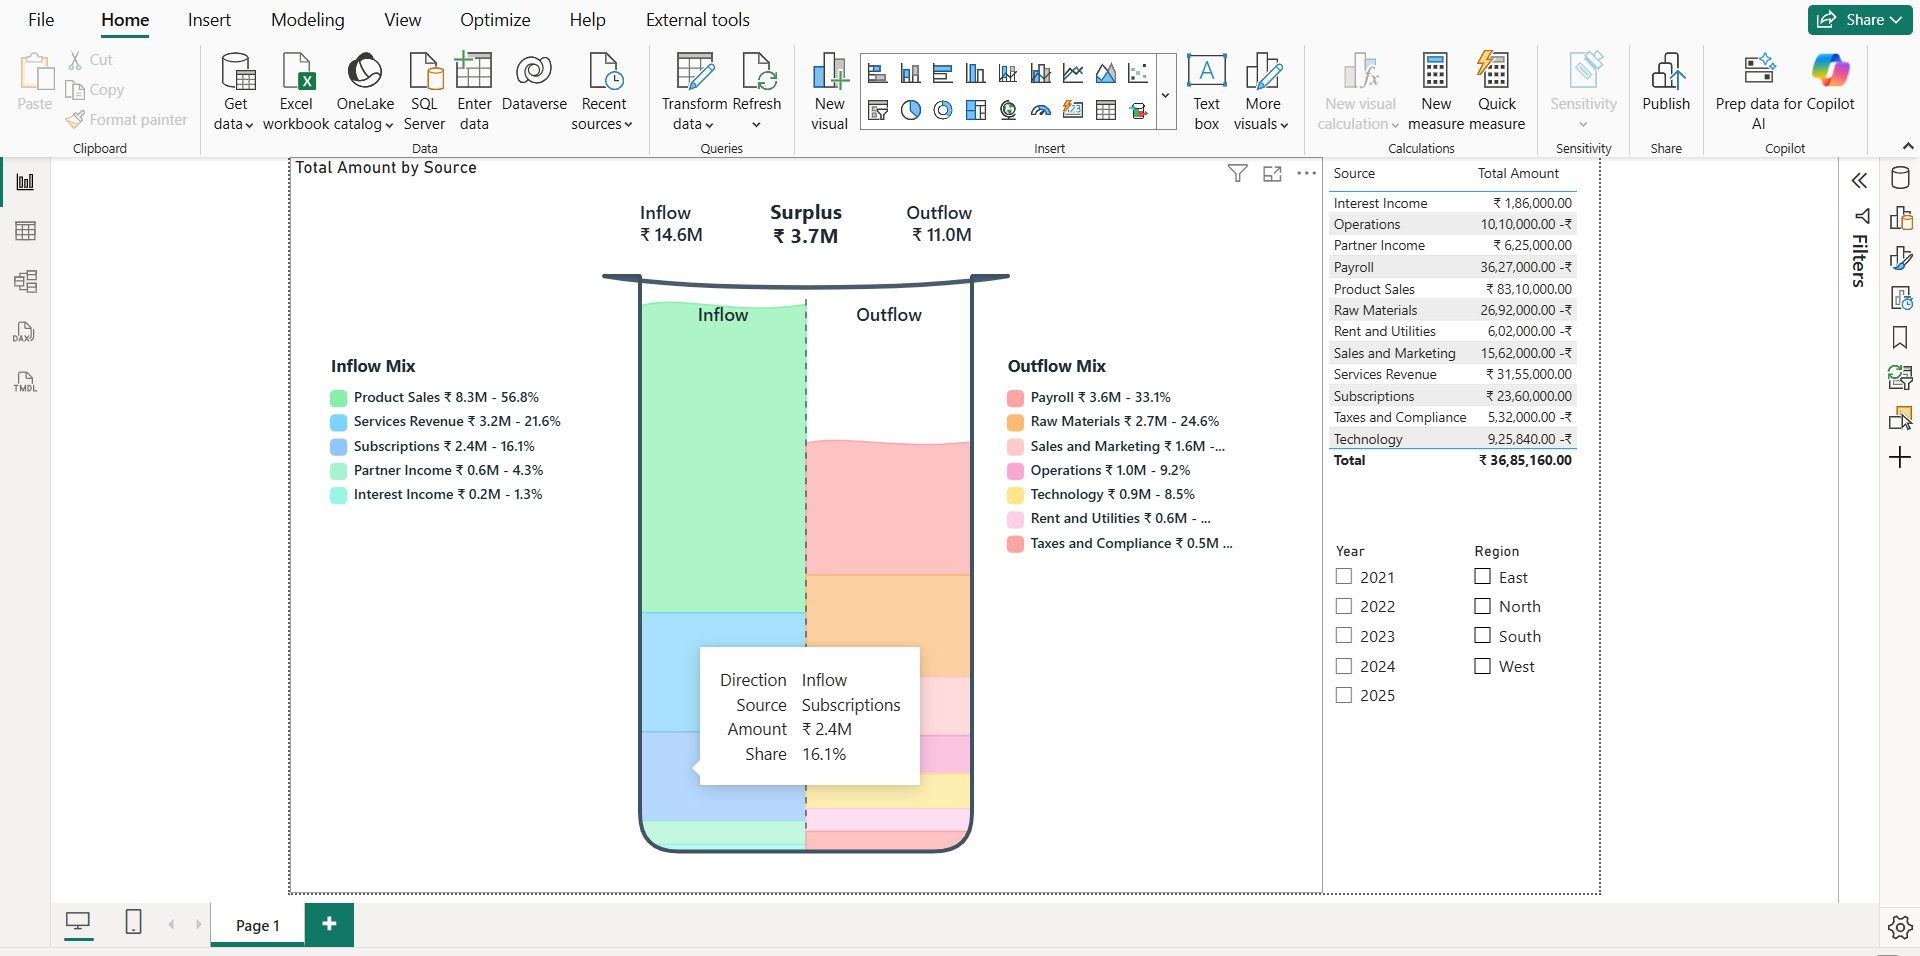

This screenshot's page, from the dashboard's own definition file:
{"tool":"powerbi","page":{"name":"Page 1","canvas":[1280,720],"ordinal":0},"visuals":[{"type":"tableEx","fields":{"Values":["flowtank_sample_financials.Source","flowtank_sample_financials.Total Amount"]},"box":[1009.9,0,269.8,372.2],"z":1},{"type":"slicer","fields":{"Values":["flowtank_sample_financials.Year"]},"box":[1009.9,372.2,135.6,347.7],"z":3},{"type":"slicer","fields":{"Values":["flowtank_sample_financials.Region"]},"box":[1145.6,372.2,134.2,173.1],"z":5},{"type":"flowTank19740818","fields":{"source":["flowtank_sample_financials.Source"],"amount":["flowtank_sample_financials.Total Amount"]},"box":[0,0,1009.9,719.9],"z":6}]}

Visuals, with their boxes on the page's 1280x720 design canvas (x1, y1, x2, y2). These are canvas units, not pixel positions in the 1920x956 screenshot, which may show the page scaled, cropped or inside an application window:
tableEx - flowtank_sample_financials.Source x flowtank_sample_financials.Total Amount: detection(1010, 0, 1280, 372)
slicer - flowtank_sample_financials.Year: detection(1010, 372, 1146, 720)
slicer - flowtank_sample_financials.Region: detection(1146, 372, 1280, 545)
flowTank19740818 - flowtank_sample_financials.Source x flowtank_sample_financials.Total Amount: detection(0, 0, 1010, 720)
